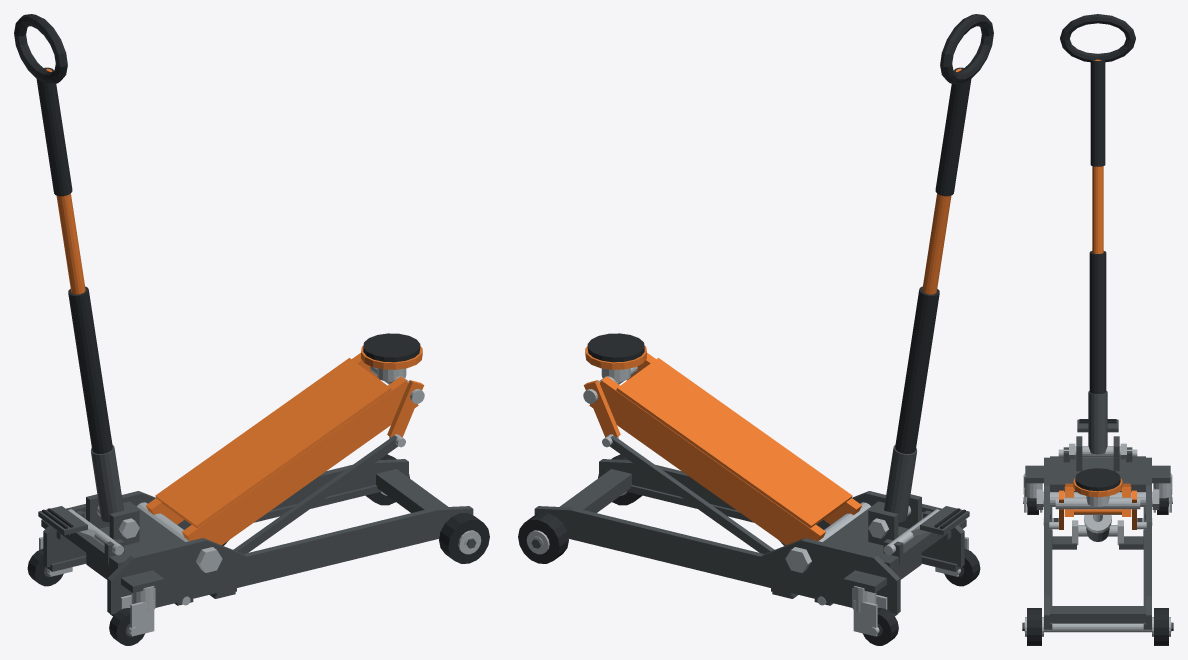
3 views of the same model, side by side, from view 1: azimuth 30°, elevation 25°; view 2: azimuth 150°, elevation 25°; view 3: azimuth 270°, elevation 25° (orthographic). The views are drawn at different scales.
Visible parts, largest first — view 1: Arm crown plate, Chassis rail -1, Lifting channel wall -1, Handle protective sleeve, Chassis rail 1, Rear bridge, Leveling link -1, Handle upper sleeve, Closed D grip, Lower inward flange -1, Front crossmember, Handle lower socket (+9 smaller); view 2: Arm crown plate, Chassis rail 1, Lifting channel wall 1, Handle protective sleeve, Chassis rail -1, Rear bridge, Leveling link 1, Handle upper sleeve, Lower inward flange 1, Closed D grip, Front crossmember, Handle lower socket (+9 smaller); view 3: Handle protective sleeve, Rear bridge, Front crossmember, Handle upper sleeve, Closed D grip, Handle lower socket, Handle stem, Chassis rail -1, Chassis rail 1, Front through axle, Saddle rubber pad, Saddle hinge axle (+18 smaller).
Part boxes in pixels (x1,y1,x2,y2): Arm crown plate: [155, 358, 391, 528]; Chassis rail -1: [107, 506, 473, 614]; Lifting channel wall -1: [182, 376, 418, 545]; Handle protective sleeve: [68, 286, 112, 453]; Chassis rail 1: [43, 459, 408, 567]; Rear bridge: [57, 501, 184, 572]; Leveling link -1: [233, 435, 398, 553]; Handle upper sleeve: [36, 67, 72, 196]; Closed D grip: [14, 14, 67, 84]; Lower inward flange -1: [110, 532, 440, 615]; Front crossmember: [376, 469, 447, 512]; Handle lower socket: [91, 445, 123, 522]; Arm crown plate: [616, 358, 852, 528]; Chassis rail 1: [534, 506, 900, 614]; Lifting channel wall 1: [589, 376, 825, 545]; Handle protective sleeve: [895, 286, 939, 453]; Chassis rail -1: [599, 459, 964, 567]; Rear bridge: [823, 501, 950, 572]; Leveling link 1: [609, 435, 774, 553]; Handle upper sleeve: [935, 67, 971, 196]; Lower inward flange 1: [567, 532, 897, 615]; Closed D grip: [940, 14, 993, 84]; Front crossmember: [560, 469, 631, 512]; Handle lower socket: [884, 445, 916, 522]; Handle protective sleeve: [1089, 251, 1106, 393]; Rear bridge: [1050, 456, 1145, 491]; Front crossmember: [1050, 606, 1145, 623]; Handle upper sleeve: [1090, 59, 1105, 166]; Closed D grip: [1060, 14, 1135, 62]; Handle lower socket: [1088, 391, 1107, 454]; Handle stem: [1092, 59, 1103, 253]; Chassis rail -1: [1044, 457, 1049, 629]; Chassis rail 1: [1146, 457, 1151, 629]; Front through axle: [1024, 622, 1171, 632]; Saddle rubber pad: [1075, 468, 1120, 491]; Saddle hinge axle: [1055, 497, 1140, 509].
Bounding box in the file's own units: 0.9055 × 1.28 × 0.364.
